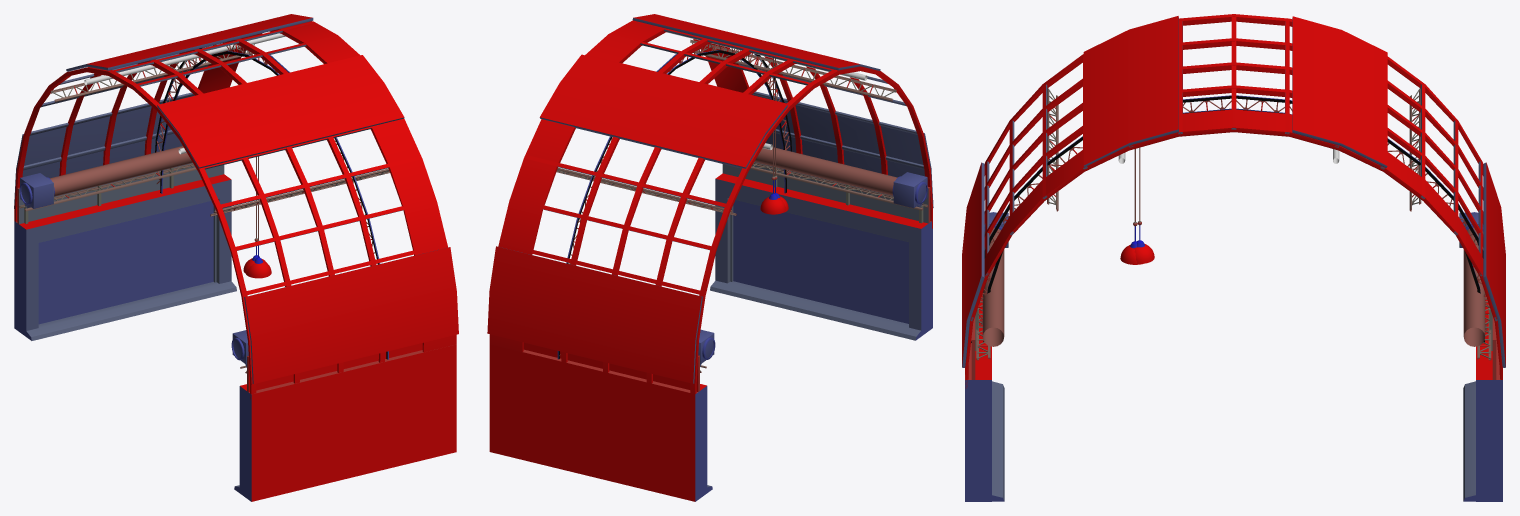
Rendered from Enviro_01.fbx.
3 views of the same model, side by side, from view 1: azimuth 30°, elevation 25°; view 2: azimuth 150°, elevation 25°; view 3: azimuth 270°, elevation 25° (orthographic). The views are drawn at different scales.
Parts seen in each view (by area): view 1: LO_wall, DomeRoofSupport_02, DomeRoofSupport_01, DomeRoofSplines, Pipe, scaffoldBeam (2), ARC_crossbeamformation, scaffoldBeam, RoofPipe, ARC_Crossbeam_copy; view 2: LO_wall, DomeRoofSupport_02, DomeRoofSupport_01, DomeRoofSplines, Pipe, scaffoldBeam (2), ARC_crossbeamformation, scaffoldBeam, ARC_Crossbeam_copy, Lamp (2); view 3: DomeRoofSupport_02, DomeRoofSupport_01, LO_wall, DomeRoofSplines, Pipe, ARC_crossbeamformation, scaffoldBeam (2), ARC_Crossbeam_copy, scaffoldBeam.
Boxes of the visible parts, x1=… form: LO_wall: x1=14, y1=163, x2=456, y2=501; DomeRoofSupport_02: x1=14, y1=14, x2=458, y2=383; DomeRoofSupport_01: x1=14, y1=21, x2=456, y2=399; DomeRoofSplines: x1=23, y1=21, x2=422, y2=294; Pipe: x1=19, y1=146, x2=248, y2=367; scaffoldBeam (2): x1=50, y1=44, x2=389, y2=216; ARC_crossbeamformation: x1=155, y1=48, x2=388, y2=359; scaffoldBeam: x1=19, y1=163, x2=246, y2=373; RoofPipe: x1=84, y1=33, x2=285, y2=154; ARC_Crossbeam_copy: x1=156, y1=42, x2=377, y2=263; LO_wall: x1=489, y1=162, x2=932, y2=501; DomeRoofSupport_02: x1=487, y1=14, x2=933, y2=383; DomeRoofSupport_01: x1=489, y1=21, x2=932, y2=394; DomeRoofSplines: x1=524, y1=20, x2=924, y2=294; Pipe: x1=698, y1=147, x2=927, y2=366; scaffoldBeam (2): x1=556, y1=39, x2=896, y2=215; ARC_crossbeamformation: x1=557, y1=50, x2=791, y2=359; scaffoldBeam: x1=700, y1=162, x2=927, y2=372; ARC_Crossbeam_copy: x1=559, y1=43, x2=790, y2=356; Lamp (2): x1=760, y1=58, x2=785, y2=214; DomeRoofSupport_02: x1=962, y1=16, x2=1505, y2=367; DomeRoofSupport_01: x1=965, y1=14, x2=1502, y2=388; LO_wall: x1=965, y1=294, x2=1502, y2=501; DomeRoofSplines: x1=970, y1=17, x2=1497, y2=321; Pipe: x1=975, y1=212, x2=1492, y2=350; ARC_crossbeamformation: x1=971, y1=95, x2=1484, y2=342; scaffoldBeam (2): x1=1047, y1=88, x2=1421, y2=211; ARC_Crossbeam_copy: x1=978, y1=99, x2=1496, y2=338; scaffoldBeam: x1=976, y1=295, x2=1491, y2=360.
Bounding box in the file's own units: 1016 × 1536 × 2022.
